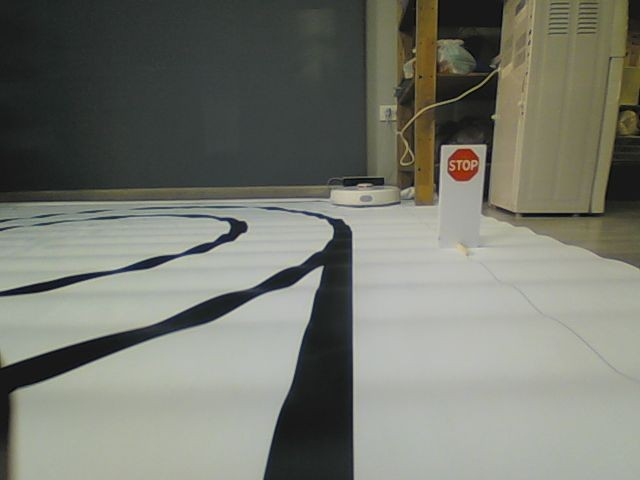Stop: (447, 149, 480, 183)
